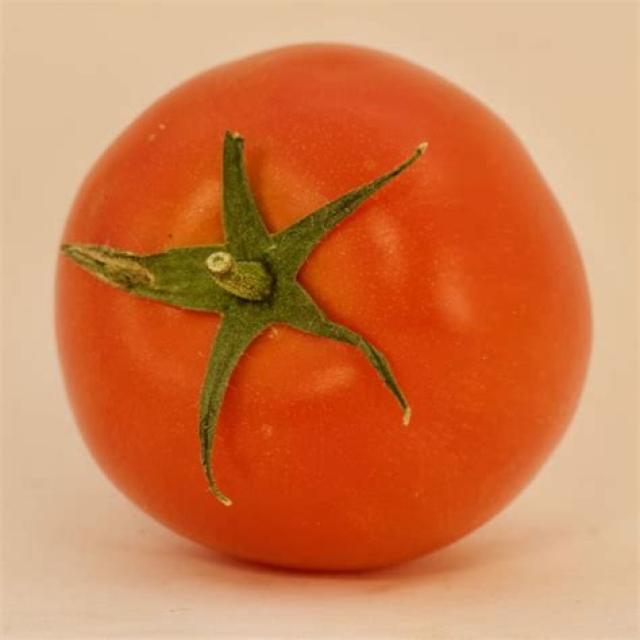Tomato: (53, 43, 594, 577)
